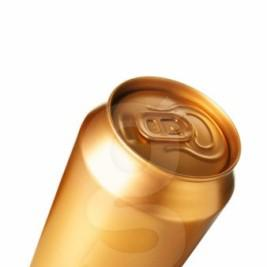beer: (30, 76, 243, 267)
